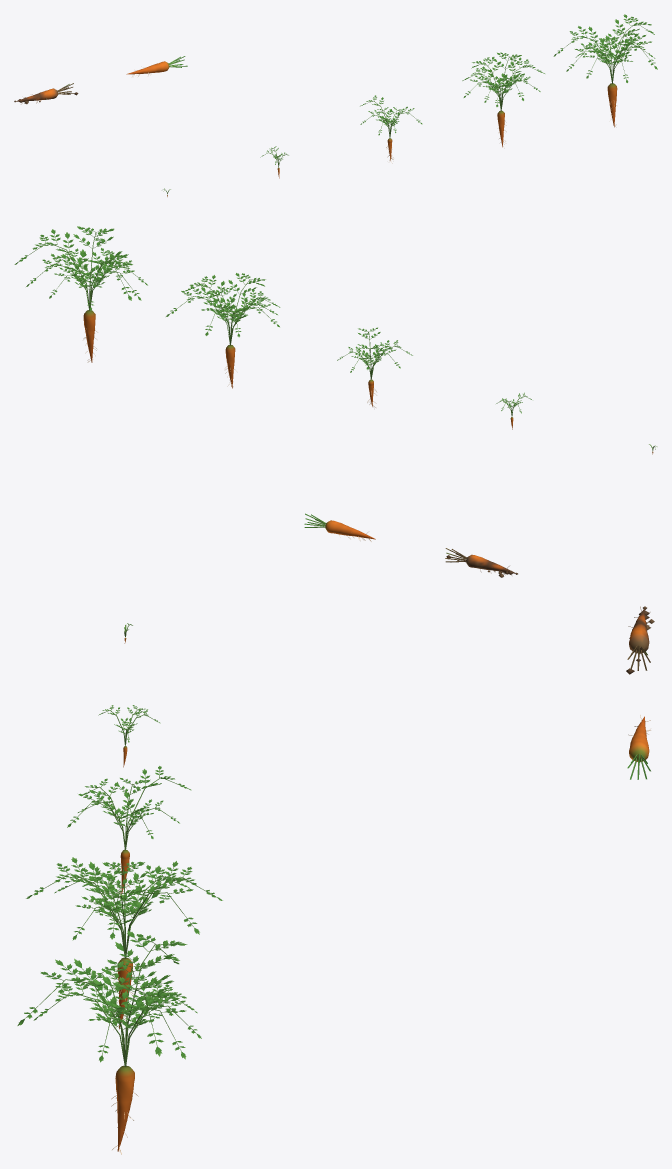
The model's file is fieldworks_carrot.glb.
The picture shows the model from 3 angles, top to bottom: view 1: azimuth 30°, elevation 25°; view 2: azimuth 150°, elevation 25°; view 3: azimuth 270°, elevation 25°; orthographic projection. The views are drawn at different scales.
Visible parts, largest first — view 1: carrot_stage5_ready, carrot_stage4_bulking, carrot_stage3_root_forming, carrot_item_dirty, carrot_item_washed; view 2: carrot_stage5_ready, carrot_stage4_bulking, carrot_stage3_root_forming, carrot_item_dirty, carrot_item_washed; view 3: carrot_stage5_ready, carrot_stage4_bulking, carrot_stage3_root_forming, carrot_item_dirty, carrot_item_washed.
Part boxes in pixels (x1,y1,x2,y2): carrot_stage5_ready: (553,14,657,127); carrot_stage4_bulking: (462,52,544,147); carrot_stage3_root_forming: (360,95,422,163); carrot_item_dirty: (14,83,78,104); carrot_item_washed: (126,56,187,76); carrot_stage5_ready: (14,226,147,362); carrot_stage4_bulking: (166,273,280,388); carrot_stage3_root_forming: (337,327,412,407); carrot_item_dirty: (445,548,517,577); carrot_item_washed: (304,513,375,541); carrot_stage5_ready: (17,930,201,1154); carrot_stage4_bulking: (26,857,222,1029); carrot_stage3_root_forming: (67,766,191,895); carrot_item_dirty: (626,606,654,674); carrot_item_washed: (627,715,650,779).
Bounding box in the file's own units: 2.34 × 0.4185 × 1.24.
